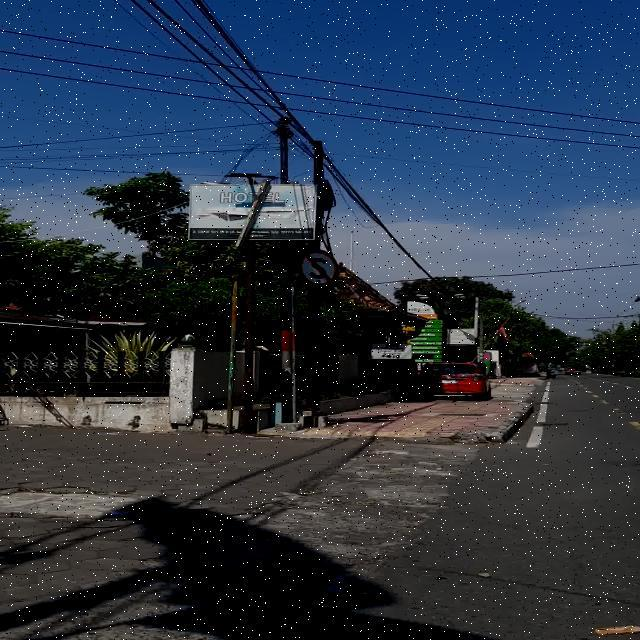Dilarang Berhenti: (296, 250, 338, 286)
